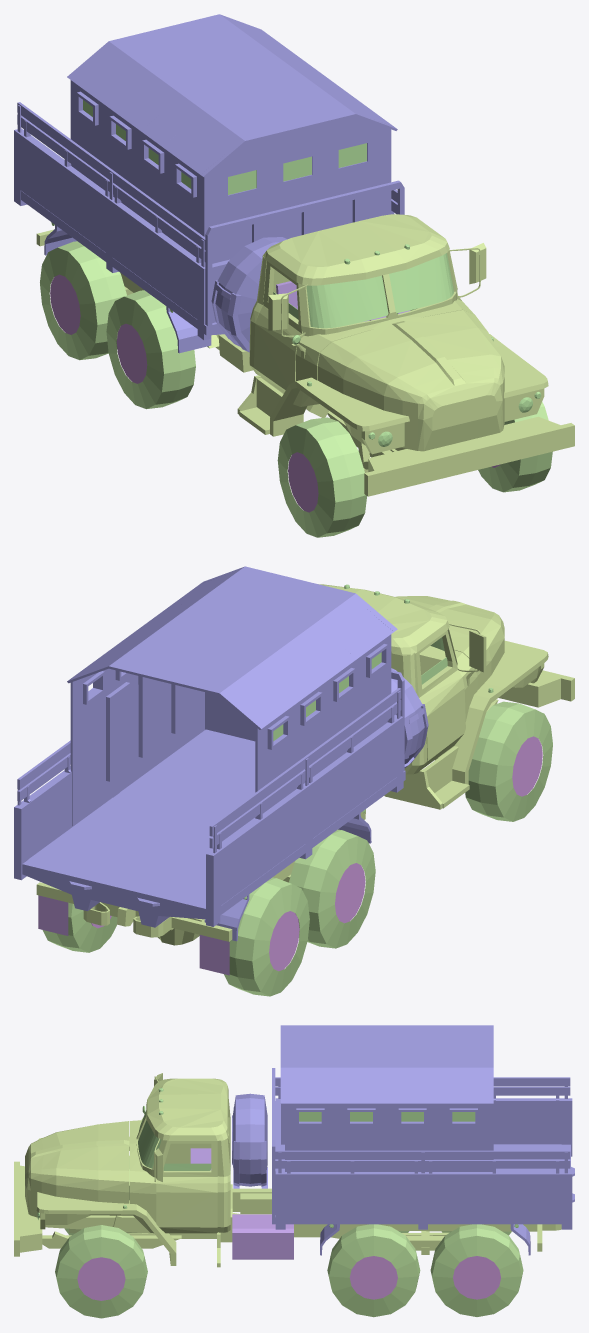
Rendered from land-wheeled-ural.glb.
3 views of the same model, one above another, from view 1: azimuth 30°, elevation 25°; view 2: azimuth 150°, elevation 25°; view 3: azimuth 270°, elevation 25° (orthographic). The views are drawn at different scales.
Parts seen in each view (by area): view 1: CC_WHL_07_Cab, SM_WHL_07_Transport_Armored_CC, CC_WHL_07_Flatbed, CC_WHL_07_Wheel_1, SM_WHL_07_Transport_Armored_Roof_CC, CC_WHL_07_Wheel_5, CC_WHL_07_Wheel_3, CC_WHL_07_Wheel_0; view 2: CC_WHL_07_Flatbed, SM_WHL_07_Transport_Armored_CC, CC_WHL_07_Cab, SM_WHL_07_Transport_Armored_Roof_CC, CC_WHL_07_Wheel_1, CC_WHL_07_Wheel_3, CC_WHL_07_Wheel_5, CC_WHL_07_Wheel_2; view 3: CC_WHL_07_Cab, CC_WHL_07_Flatbed, SM_WHL_07_Transport_Armored_CC, CC_WHL_07_Wheel_0, CC_WHL_07_Wheel_4, CC_WHL_07_Wheel_2, SM_WHL_07_Transport_Armored_Roof_CC, CC_WHL_07_Interior.
Part boxes in pixels (left/top/right/bottom): CC_WHL_07_Cab: left=36, top=214, right=574, bottom=496; SM_WHL_07_Transport_Armored_CC: left=67, top=14, right=397, bottom=263; CC_WHL_07_Flatbed: left=14, top=102, right=404, bottom=353; CC_WHL_07_Wheel_1: left=277, top=417, right=366, bottom=537; SM_WHL_07_Transport_Armored_Roof_CC: left=133, top=61, right=363, bottom=151; CC_WHL_07_Wheel_5: left=106, top=290, right=195, bottom=409; CC_WHL_07_Wheel_3: left=40, top=241, right=126, bottom=360; CC_WHL_07_Wheel_0: left=478, top=402, right=552, bottom=492; CC_WHL_07_Flatbed: left=14, top=668, right=428, bottom=941; SM_WHL_07_Transport_Armored_CC: left=67, top=566, right=397, bottom=825; CC_WHL_07_Cab: left=36, top=584, right=574, bottom=975; SM_WHL_07_Transport_Armored_Roof_CC: left=133, top=589, right=364, bottom=757; CC_WHL_07_Wheel_1: left=465, top=701, right=552, bottom=821; CC_WHL_07_Wheel_3: left=224, top=877, right=309, bottom=996; CC_WHL_07_Wheel_5: left=289, top=829, right=375, bottom=948; CC_WHL_07_Wheel_2: left=42, top=902, right=117, bottom=952; CC_WHL_07_Cab: left=14, top=1073, right=561, bottom=1267; CC_WHL_07_Flatbed: left=232, top=1068, right=574, bottom=1255; SM_WHL_07_Transport_Armored_CC: left=280, top=1025, right=493, bottom=1171; CC_WHL_07_Wheel_0: left=55, top=1225, right=147, bottom=1318; CC_WHL_07_Wheel_4: left=327, top=1224, right=420, bottom=1317; CC_WHL_07_Wheel_2: left=430, top=1224, right=523, bottom=1316; SM_WHL_07_Transport_Armored_Roof_CC: left=330, top=1025, right=392, bottom=1103; CC_WHL_07_Interior: left=165, top=1143, right=211, bottom=1169.
Size of the model in its own units: 3.06 by 3.86 by 8.47.
